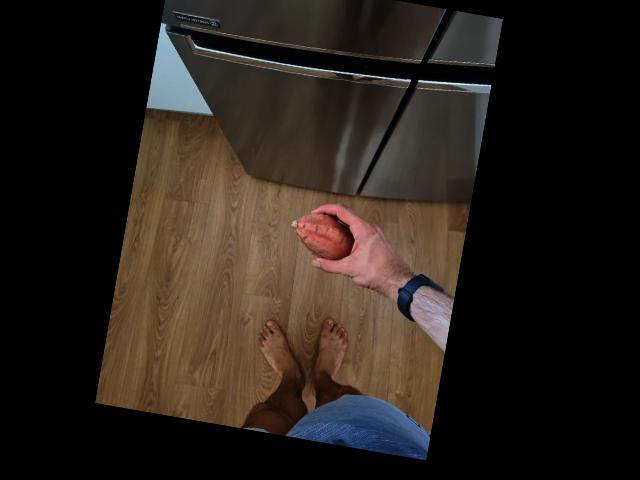sweet_potato: (285, 209, 358, 267)
